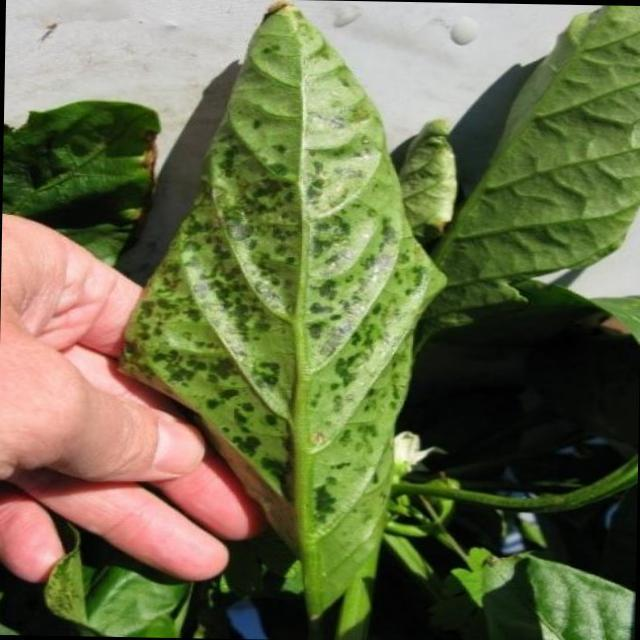Bacterial Spot: (162, 118, 417, 497)
